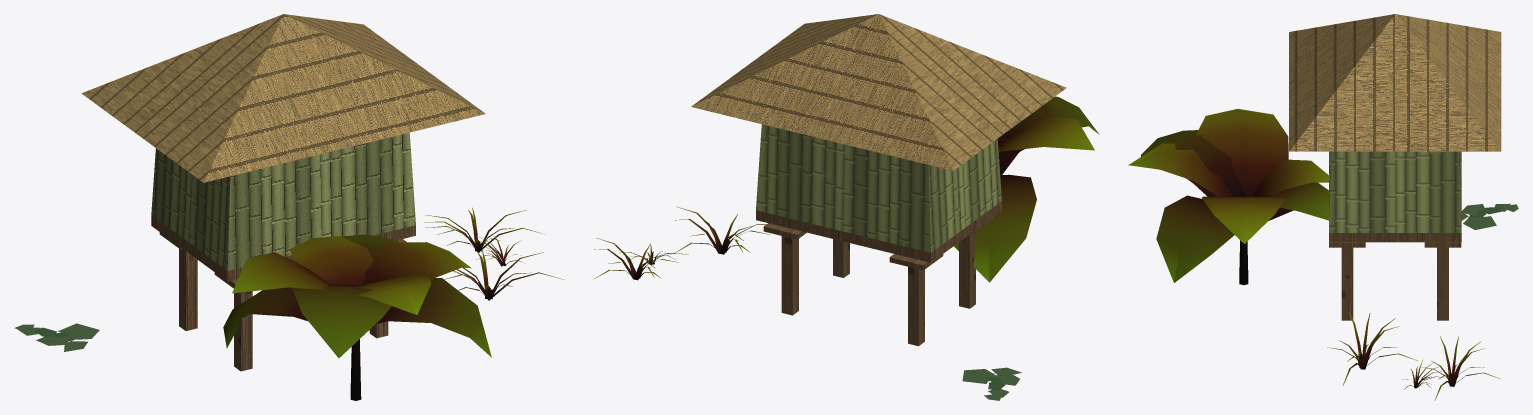
The model's file is bo_lua_02.glb.
3 renders of one model, left to right at view 1: azimuth 30°, elevation 25°; view 2: azimuth 150°, elevation 25°; view 3: azimuth 270°, elevation 25°, orthographic. The views are drawn at different scales.
Visible parts, largest first — view 1: bo_lua_02, bo_lua_02_veg_00_banana_a, bo_lua_02_veg_02_moss_a, bo_lua_02_veg_01_grass_tuft_c, bo_lua_02_veg_03_grass_tuft_c; view 2: bo_lua_02, bo_lua_02_veg_00_banana_a, bo_lua_02_veg_02_moss_a, bo_lua_02_veg_01_grass_tuft_c, bo_lua_02_veg_03_grass_tuft_c; view 3: bo_lua_02, bo_lua_02_veg_00_banana_a, bo_lua_02_veg_02_moss_a, bo_lua_02_veg_01_grass_tuft_c, bo_lua_02_veg_03_grass_tuft_c.
Boxes of the visible parts, <box> form: bo_lua_02: <box>81,14,485,371</box>; bo_lua_02_veg_00_banana_a: <box>223,234,491,400</box>; bo_lua_02_veg_02_moss_a: <box>14,323,99,351</box>; bo_lua_02_veg_01_grass_tuft_c: <box>444,249,564,300</box>; bo_lua_02_veg_03_grass_tuft_c: <box>424,207,544,252</box>; bo_lua_02: <box>691,14,1066,346</box>; bo_lua_02_veg_00_banana_a: <box>954,96,1099,282</box>; bo_lua_02_veg_02_moss_a: <box>962,367,1021,400</box>; bo_lua_02_veg_01_grass_tuft_c: <box>674,206,770,254</box>; bo_lua_02_veg_03_grass_tuft_c: <box>594,238,688,280</box>; bo_lua_02: <box>1289,14,1501,320</box>; bo_lua_02_veg_00_banana_a: <box>1128,109,1329,285</box>; bo_lua_02_veg_02_moss_a: <box>1461,203,1518,229</box>; bo_lua_02_veg_01_grass_tuft_c: <box>1327,312,1418,385</box>; bo_lua_02_veg_03_grass_tuft_c: <box>1420,336,1500,400</box>.
Size of the model in its own units: 6.63 by 4.15 by 5.34.
7 materials, 7 textured.
